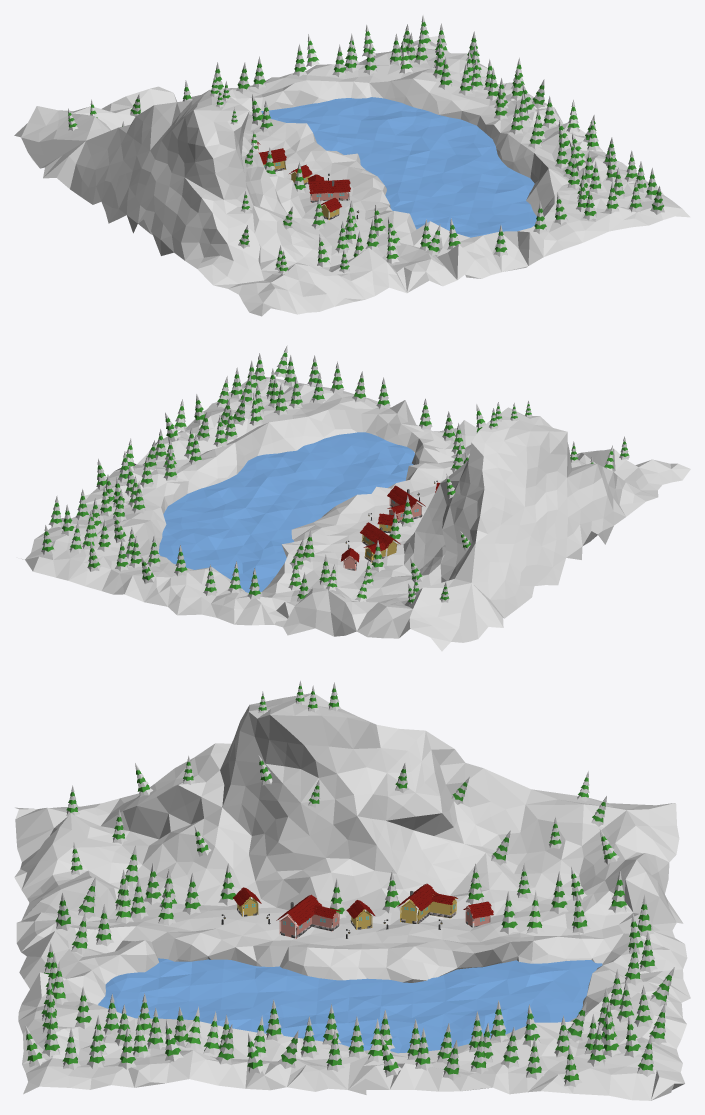
The model's file is Low_Poly_Winter_Village.glb.
The picture shows the model from 3 angles, top to bottom: view 1: azimuth 30°, elevation 25°; view 2: azimuth 150°, elevation 25°; view 3: azimuth 270°, elevation 25°; orthographic projection. The views are drawn at different scales.
Visible parts, largest first — view 1: Ground_White_0, Lake_Blue_0; view 2: Ground_White_0, Lake_Blue_0; view 3: Ground_White_0, Lake_Blue_0, House4_Yellow_0, House3_Pink_0.
Boxes of the visible parts, left/top/right/bottom form: Ground_White_0: left=14, top=36, right=690, bottom=316; Lake_Blue_0: left=261, top=97, right=536, bottom=237; Ground_White_0: left=21, top=377, right=690, bottom=651; Lake_Blue_0: left=159, top=432, right=414, bottom=592; Ground_White_0: left=14, top=693, right=690, bottom=1100; Lake_Blue_0: left=98, top=958, right=602, bottom=1053; House4_Yellow_0: left=400, top=894, right=456, bottom=923; House3_Pink_0: left=278, top=912, right=339, bottom=938.
Size of the model in its own units: 95.94 by 33.68 by 95.44.
